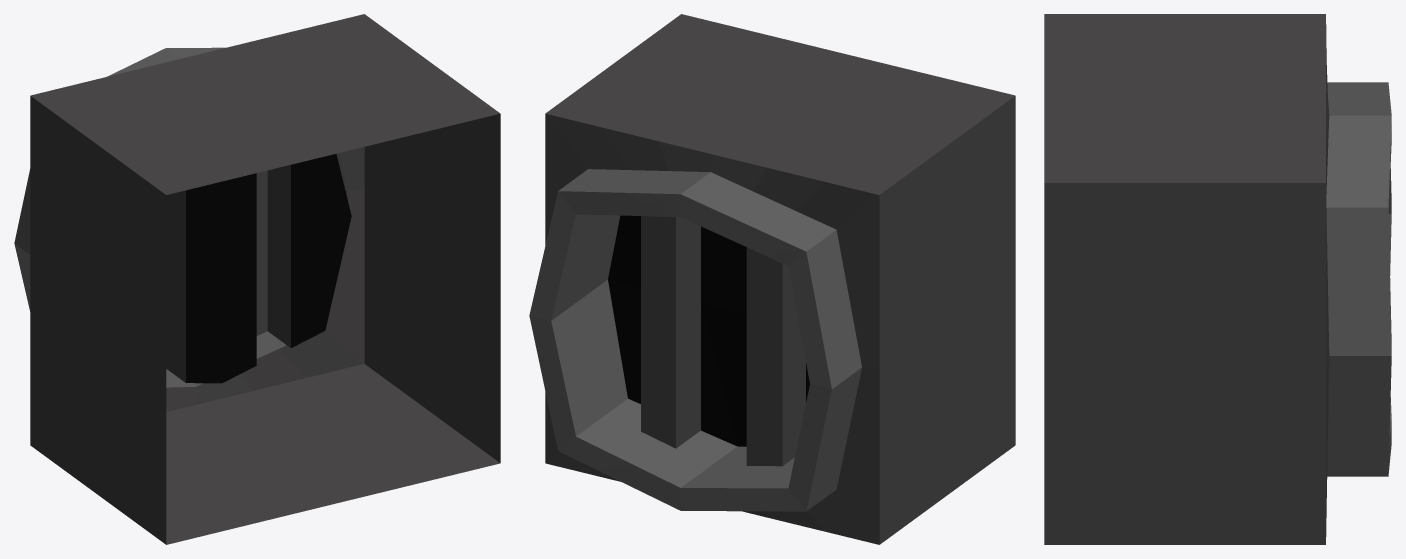
Rendered from round-ventilation.fbx.
The picture shows the model from 3 angles, left to right: view 1: azimuth 30°, elevation 25°; view 2: azimuth 150°, elevation 25°; view 3: azimuth 270°, elevation 25°; orthographic projection. The views are drawn at different scales.
Parts seen in each view (by area): view 1: round-ventilation; view 2: round-ventilation; view 3: round-ventilation.
Boxes of the visible parts, left/top/right/bottom form: round-ventilation: left=14, top=14, right=500, bottom=544; round-ventilation: left=529, top=14, right=1015, bottom=544; round-ventilation: left=1044, top=14, right=1391, bottom=544.
Bounding box in the file's own units: 48.32 × 48.32 × 42.03.
